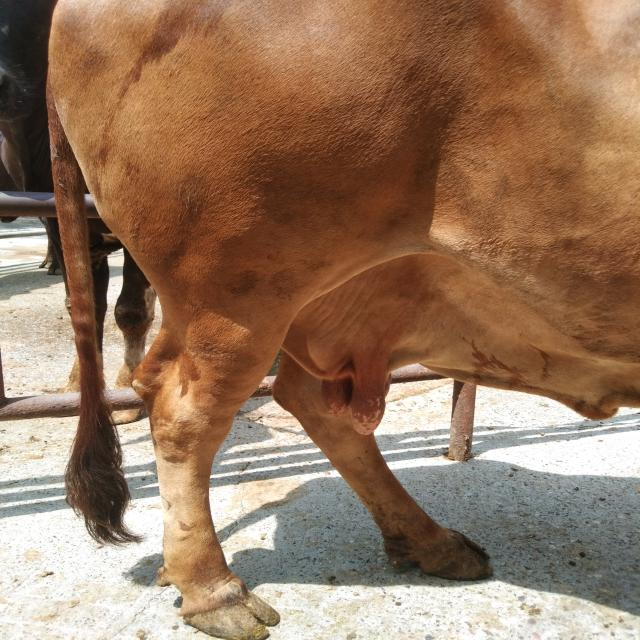Hoof: (177, 578, 280, 639), (383, 527, 494, 581)
